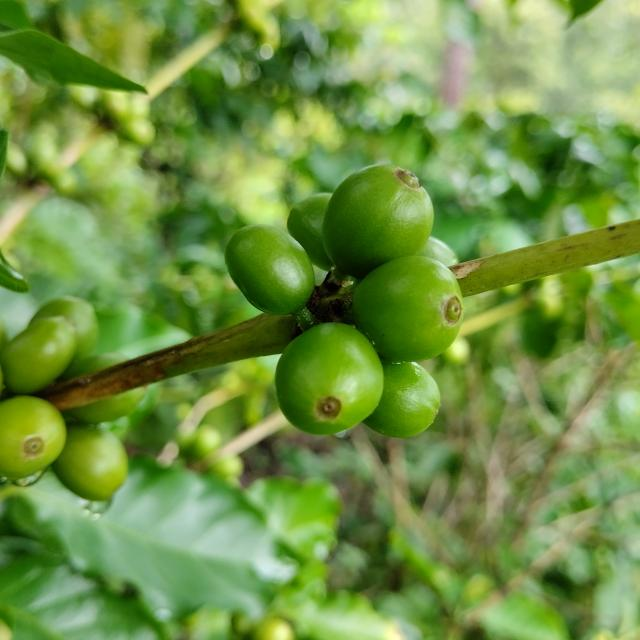green: (322, 164, 434, 279), (275, 323, 384, 435), (352, 255, 464, 362), (225, 225, 315, 315), (0, 316, 76, 394), (363, 362, 441, 438), (51, 427, 127, 502), (0, 396, 66, 480), (30, 296, 98, 359), (287, 192, 333, 271), (416, 236, 459, 267)
